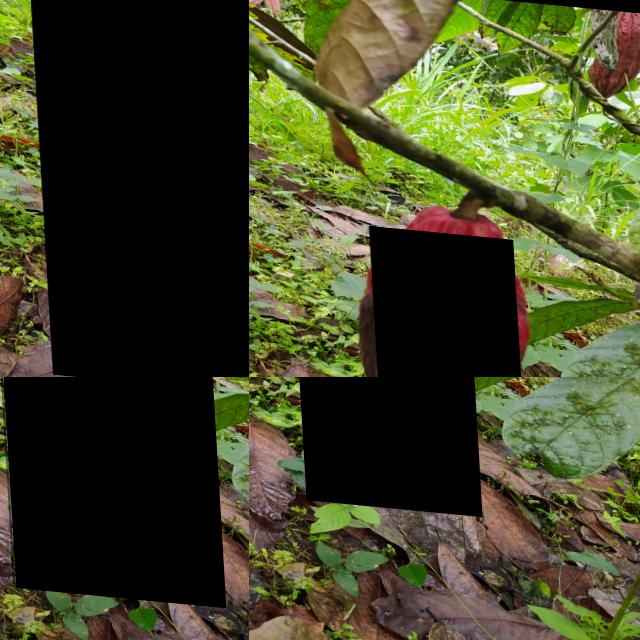Fitoftora: (288, 377, 476, 508)
Monilia: (27, 0, 249, 377), (0, 377, 219, 599), (366, 220, 523, 377)
